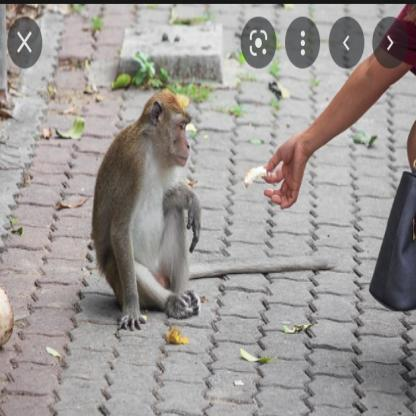monkey: (89, 85, 205, 331)
